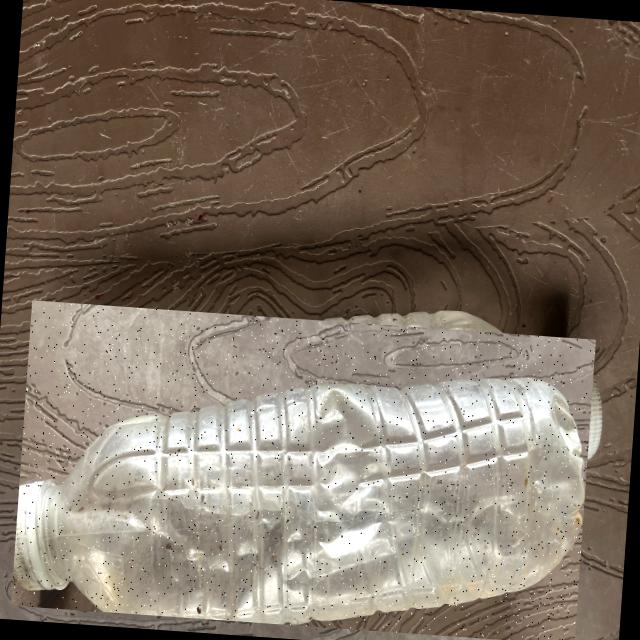REJECT: (9, 299, 594, 640)
